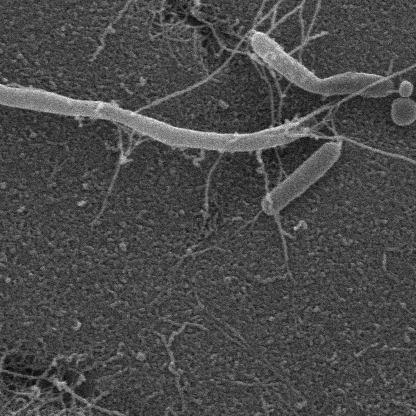cell2cell: (286, 54, 416, 129), (133, 43, 246, 114), (296, 132, 416, 176)
cell2surface: (299, 0, 386, 57), (253, 148, 297, 259), (92, 139, 147, 222), (256, 0, 366, 26), (191, 150, 230, 222), (196, 23, 256, 59), (253, 0, 283, 26)
filament: (254, 34, 397, 101)
regular: (261, 142, 338, 220)
